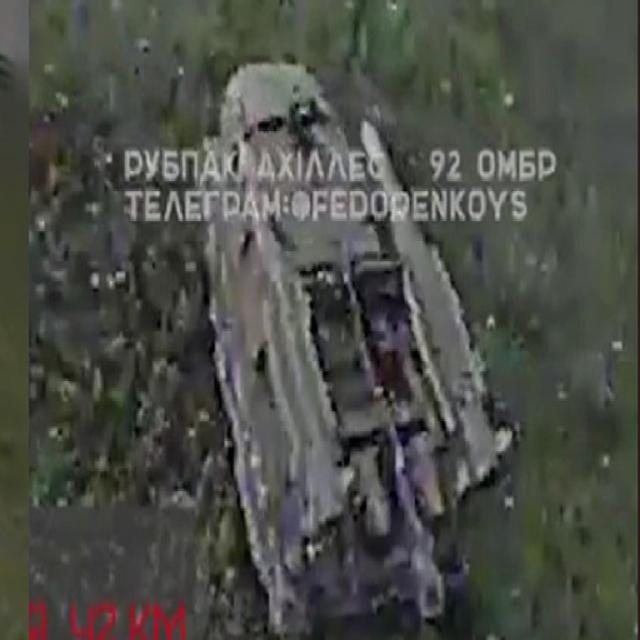MLRS: (171, 35, 519, 636)
